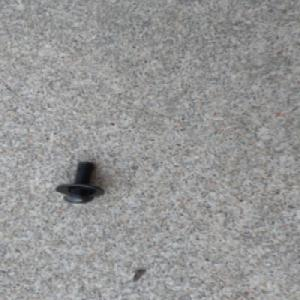BoltWasher: (53, 160, 107, 205)
